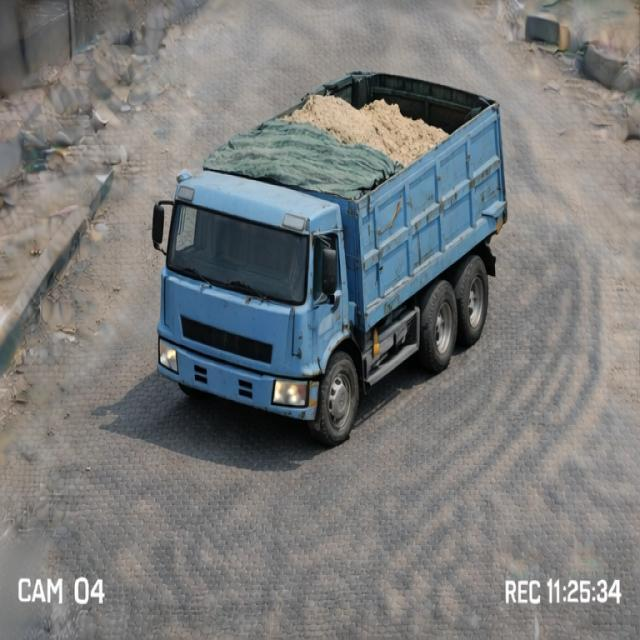trailer: (198, 70, 507, 212)
truck: (150, 64, 532, 444)
